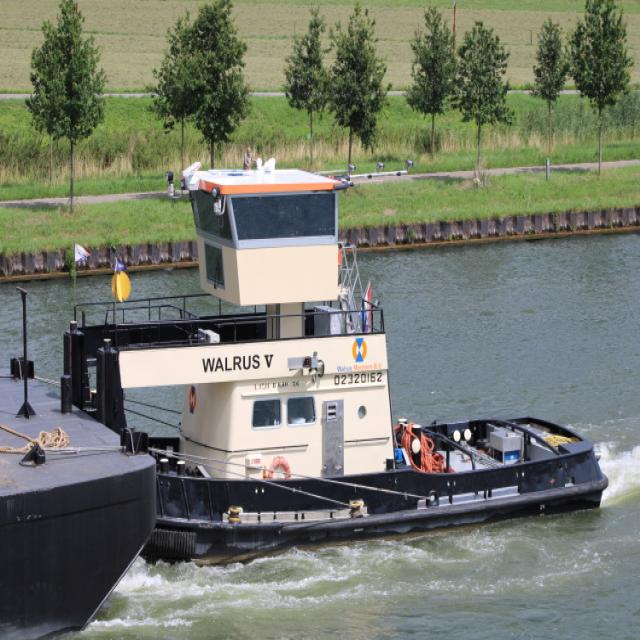tugboat: (61, 148, 615, 581)
